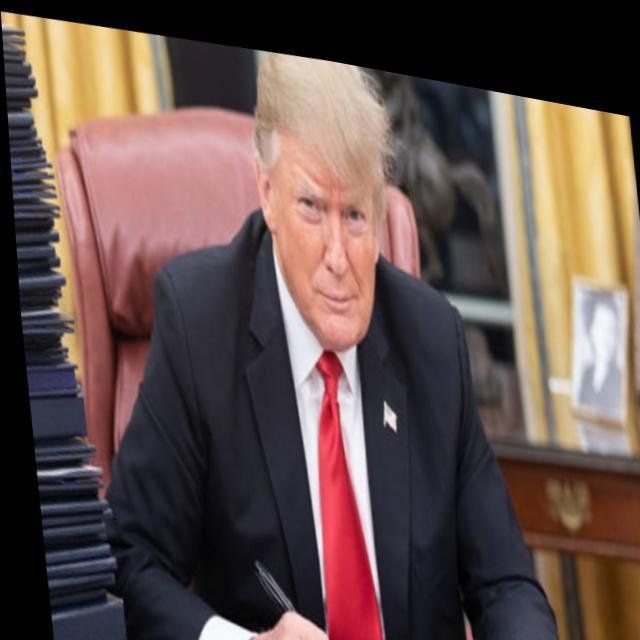Nonhelmet: (249, 50, 398, 351)
